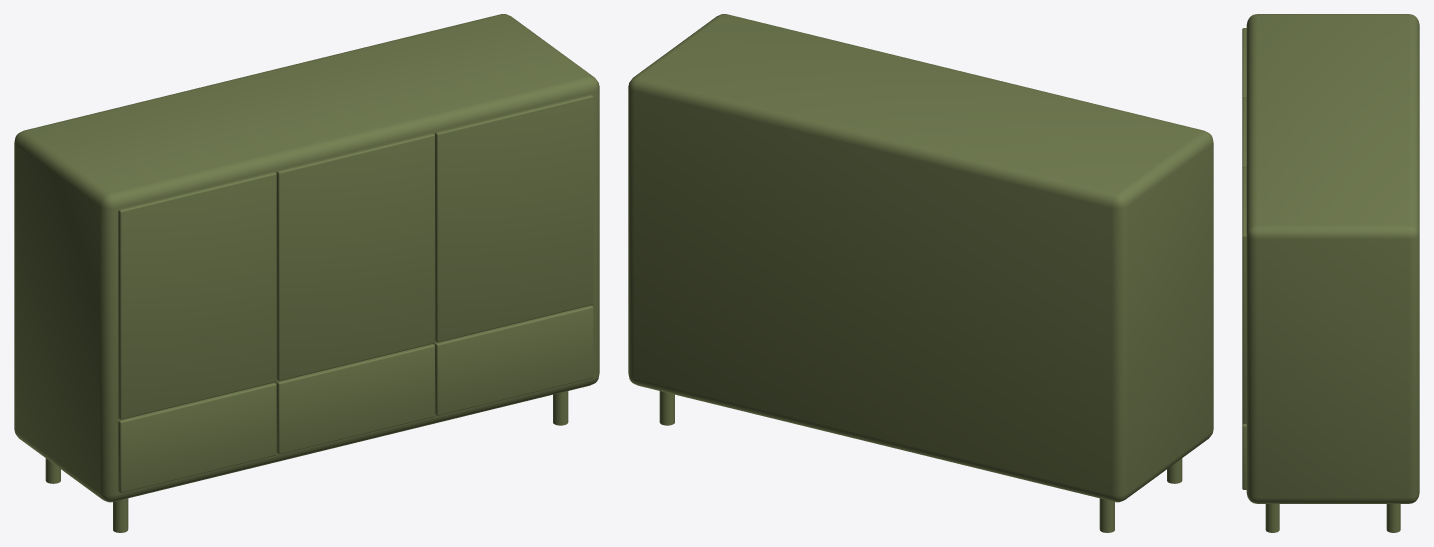
File: sklum-buffet-michigan.glb
The picture shows the model from 3 angles, left to right: view 1: azimuth 30°, elevation 25°; view 2: azimuth 150°, elevation 25°; view 3: azimuth 270°, elevation 25°; orthographic projection. The views are drawn at different scales.
Parts seen in each view (by area): view 1: sklum-buffet-michigan; view 2: sklum-buffet-michigan; view 3: sklum-buffet-michigan.
Boxes of the visible parts, <box> form: sklum-buffet-michigan: <box>14,14,599,532</box>; sklum-buffet-michigan: <box>628,14,1213,532</box>; sklum-buffet-michigan: <box>1242,14,1419,532</box>.
Size of the model in its own units: 1.2 by 0.8 by 0.41.
